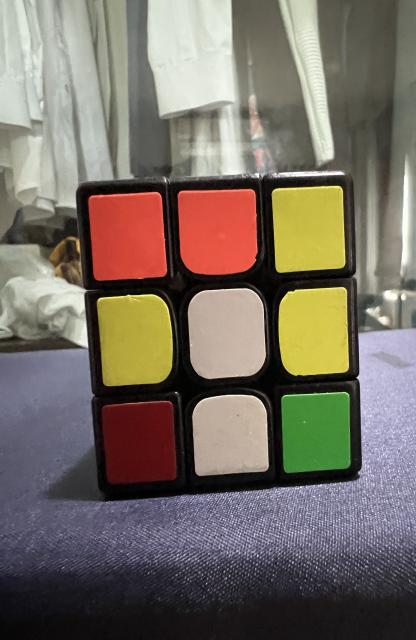Green: (282, 392, 351, 472)
Orange: (88, 192, 167, 281), (178, 189, 258, 275)
Red: (102, 401, 177, 485)
White: (187, 289, 266, 379), (192, 395, 269, 476)
Yellow: (96, 294, 173, 386), (272, 186, 346, 272), (278, 288, 349, 375)
